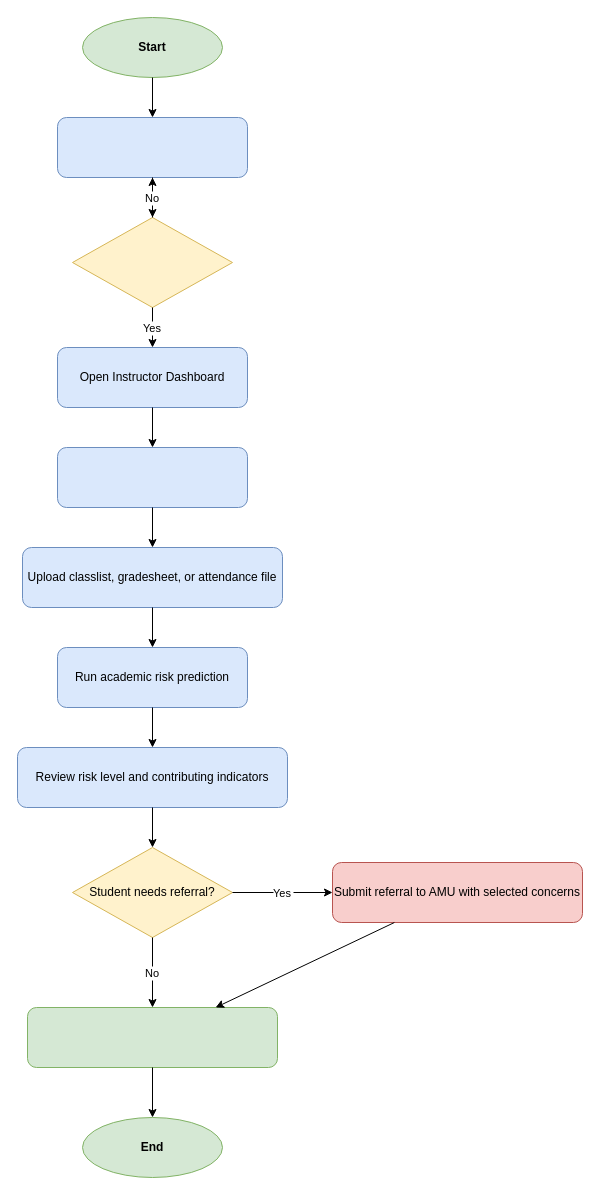
This 600x1195 diagram has some shape labels left out. Here are the shapes that lost their labels. From the top down, the centre of each, then its label:
At (x=152, y=147): "Log in and authenticate".
At (x=152, y=262): "Credentials valid?".
At (x=152, y=477): "Create or select class".
At (x=152, y=1037): "View class report or continue monitoring".
